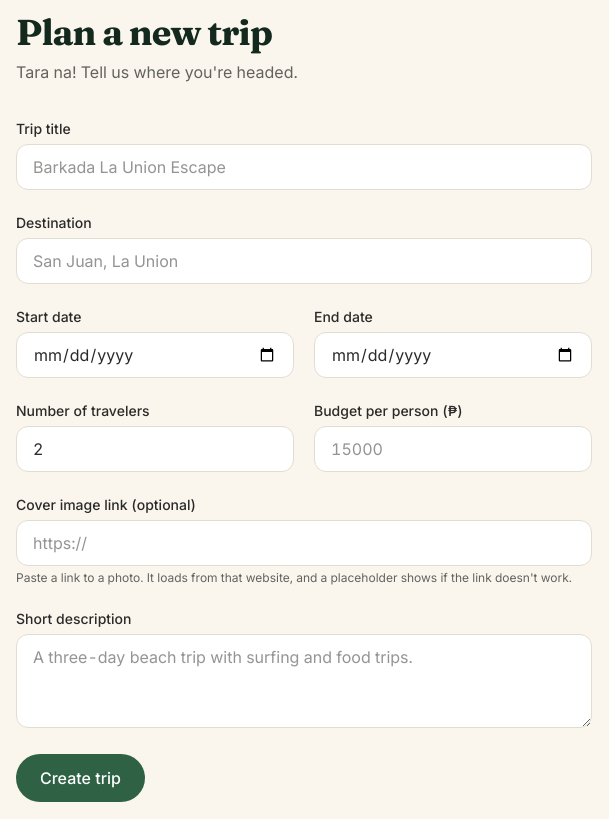
Test: CreateTrip › stays on the form and saves nothing when the form is invalid
Click the button "Create trip": point(80, 778) [16,754,145,802]
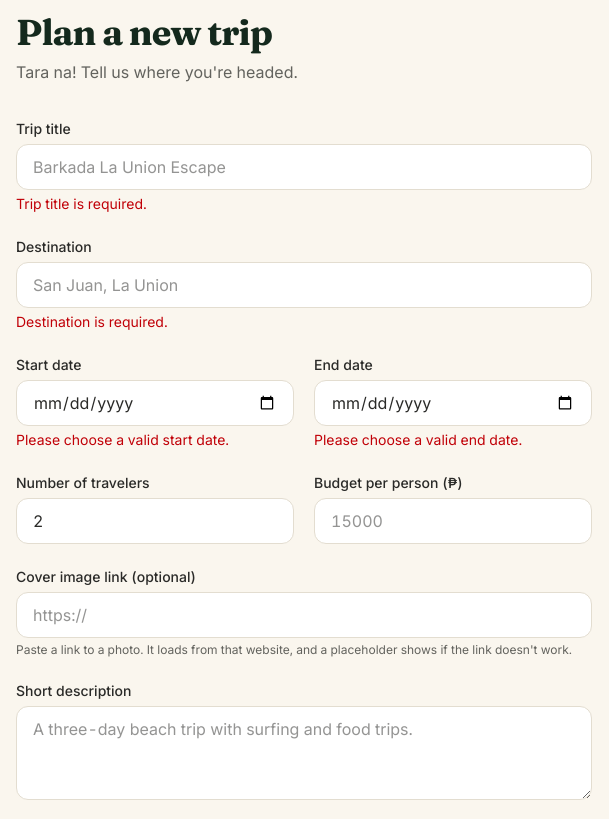
Result: the text "Trip title is required." is shown at [16,195,147,212]
